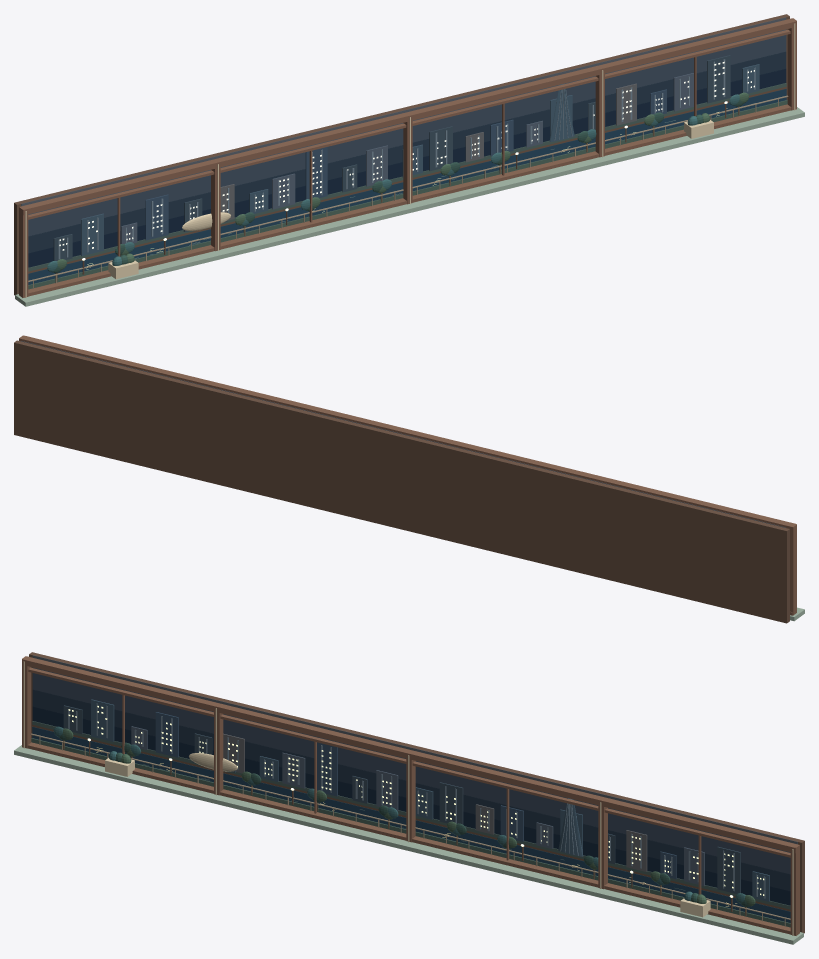
File: park_kitchen_bay_window_evening.glb
The picture shows the model from 3 angles, top to bottom: view 1: azimuth 30°, elevation 25°; view 2: azimuth 150°, elevation 25°; view 3: azimuth 330°, elevation 25°; orthographic projection.
Parts seen in each view (by area): view 1: sky_depth_band_2, window_top_rail, continuous_celadon_stone_sill, bay_water_surface, sky_depth_band_1, window_bottom_rail, recess_dark_oak, sky_depth_band_0, window_transom_rail, sky_depth_band_3, near_baywalk_green_ribbon, far_shore_green (+18 smaller); view 2: recess_dark_oak, window_top_rail, sky_depth_band_3, main_oak_mullion; view 3: sky_depth_band_2, window_top_rail, continuous_celadon_stone_sill, bay_water_surface, sky_depth_band_1, window_bottom_rail, recess_dark_oak, sky_depth_band_0, window_transom_rail, sky_depth_band_3, near_baywalk_green_ribbon, far_shore_green (+19 smaller).
Boxes of the visible parts, box(x1,y1,x2,y2) form: sky_depth_band_2: box(28, 35, 786, 236); window_top_rail: box(21, 18, 796, 215); continuous_celadon_stone_sill: box(15, 107, 804, 306); bay_water_surface: box(28, 88, 786, 284); sky_depth_band_1: box(28, 51, 786, 253); window_bottom_rail: box(28, 104, 791, 296); recess_dark_oak: box(14, 14, 789, 295); sky_depth_band_0: box(28, 69, 786, 267); window_transom_rail: box(28, 29, 790, 219); sky_depth_band_3: box(21, 17, 786, 214); near_baywalk_green_ribbon: box(28, 100, 787, 289); far_shore_green: box(28, 83, 786, 271); recess_dark_oak: box(14, 340, 789, 623); window_top_rail: box(19, 335, 796, 532); sky_depth_band_3: box(21, 341, 785, 527); main_oak_mullion: box(790, 524, 796, 615); sky_depth_band_2: box(32, 673, 790, 874); window_top_rail: box(22, 656, 798, 853); continuous_celadon_stone_sill: box(14, 745, 803, 944); bay_water_surface: box(32, 726, 790, 922); sky_depth_band_1: box(32, 689, 790, 891); window_bottom_rail: box(27, 742, 790, 934); recess_dark_oak: box(29, 652, 804, 933); sky_depth_band_0: box(32, 706, 790, 905); window_transom_rail: box(28, 667, 790, 857); sky_depth_band_3: box(32, 655, 797, 852); near_baywalk_green_ribbon: box(31, 738, 790, 927); far_shore_green: box(32, 721, 790, 909).
Size of the model in its own units: 14.84 by 1.69 by 0.492.
